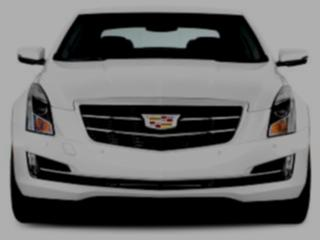cadillac: (135, 112, 186, 133)
